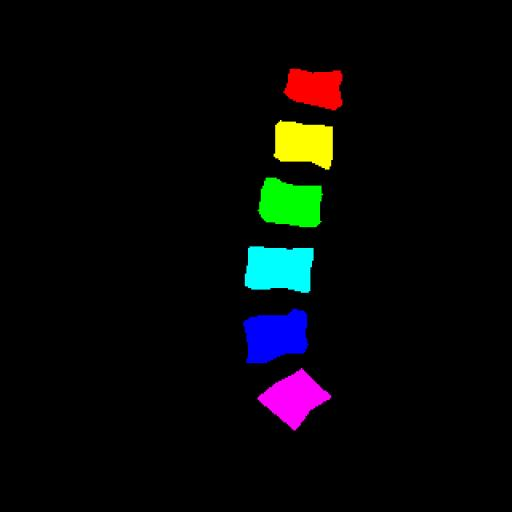L1: (284, 69, 342, 110)
L2: (274, 121, 333, 170)
L3: (258, 178, 322, 227)
L4: (245, 246, 314, 293)
L5: (243, 309, 308, 362)
S1: (258, 369, 331, 430)
